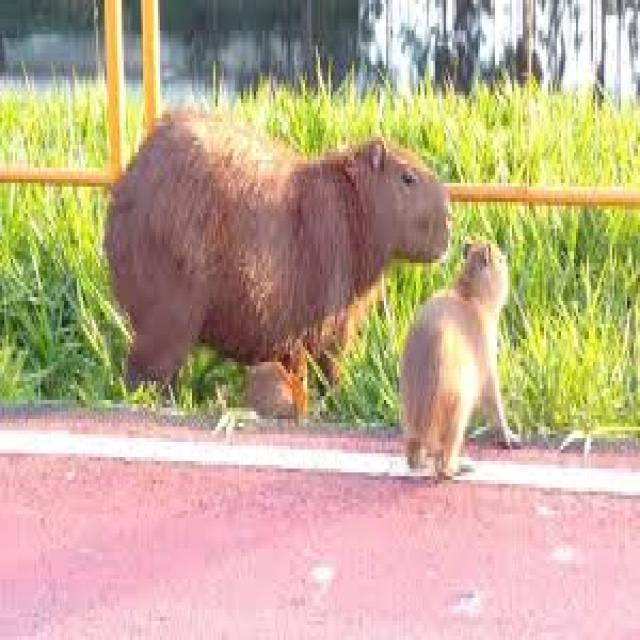capy: (104, 104, 448, 415), (404, 236, 520, 487)
